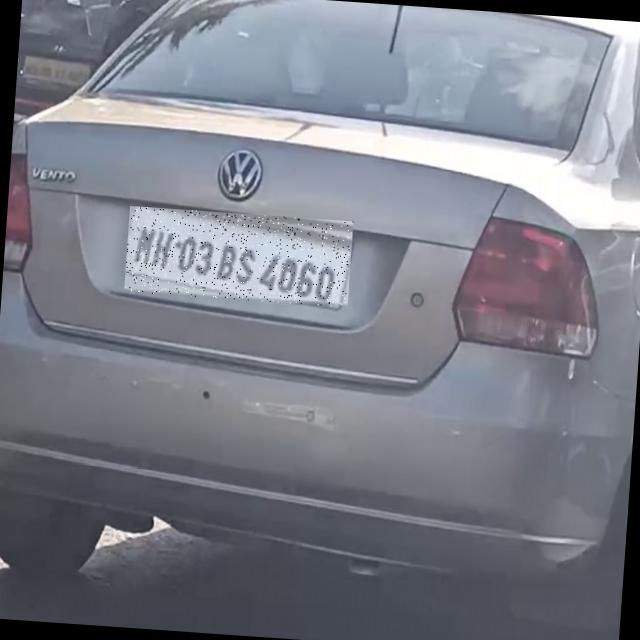Plate: (125, 207, 354, 308)
